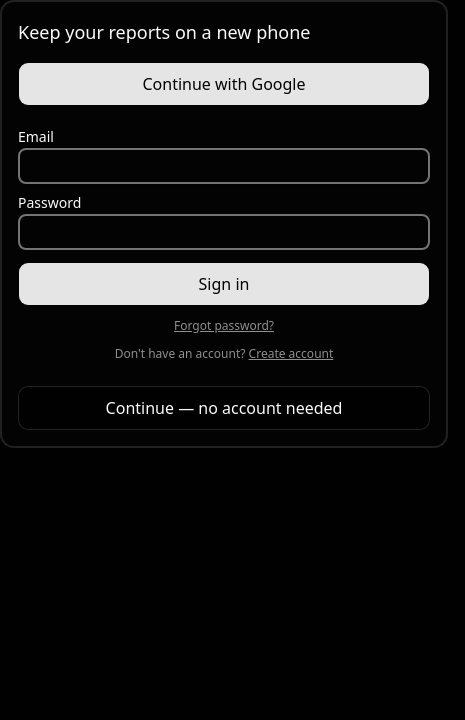
Scenario: SignInPanel › password sign-in › shows the account-created notice after a successful sign-up
Click the button "Create account" at (291, 354), box [249, 346, 333, 362]
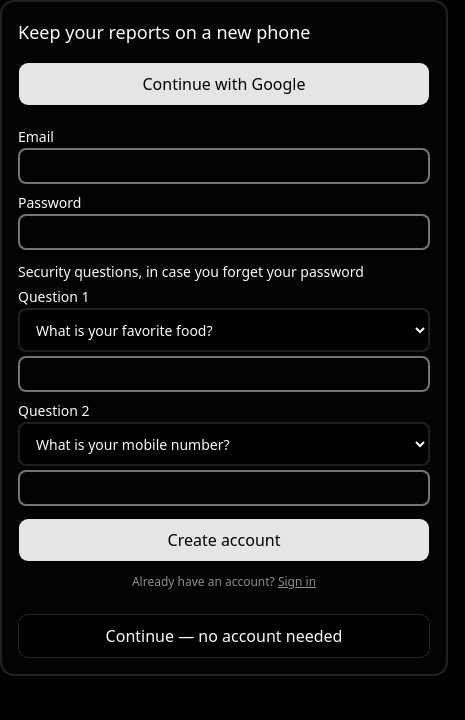
Type "new@example.com" into the field labelled "Email" at (224, 166), box [18, 148, 430, 184]
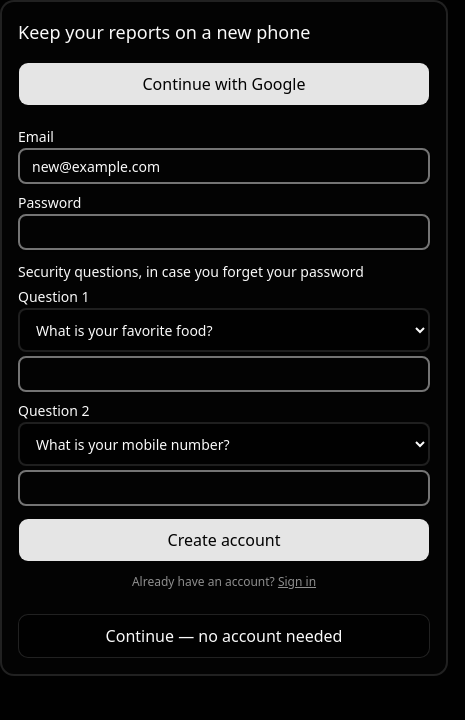
Type "hunter2222" into the password field labelled "Password" at (224, 232), box [18, 214, 430, 250]
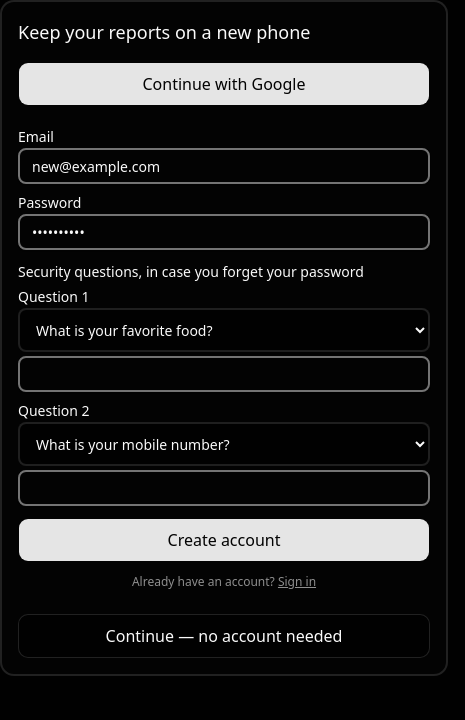
Type "adobo" into the field named "Answer 1" below "Question 1" at (224, 374), box [18, 356, 430, 392]
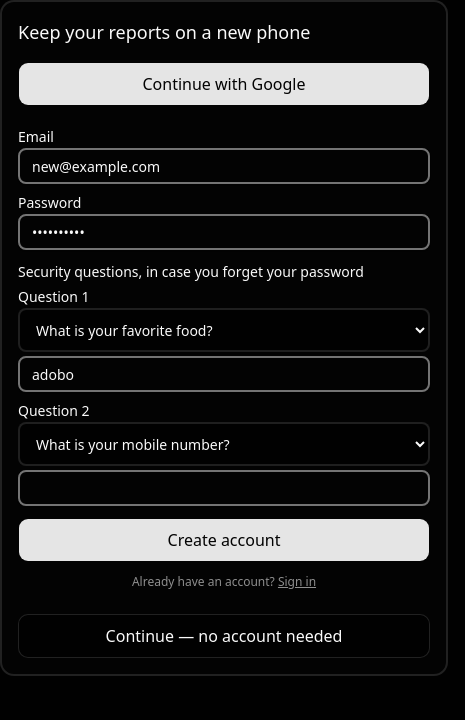
Type "0917 123 4567" into the field named "Answer 2" below "Question 2" at (224, 488), box [18, 470, 430, 506]
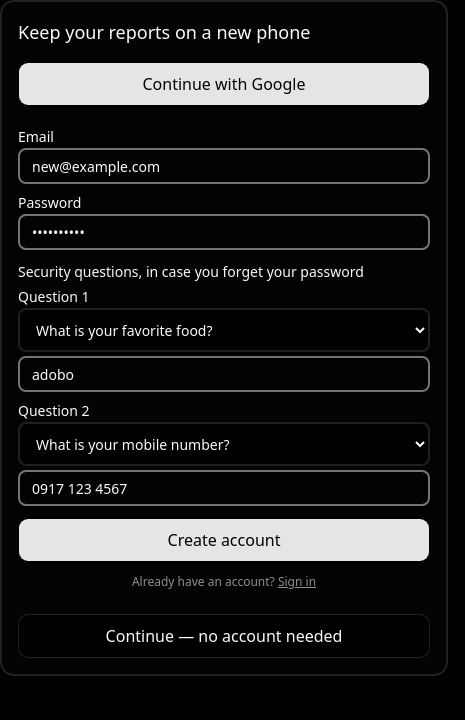
Click the button "Create account" at (224, 540), box [18, 518, 430, 562]
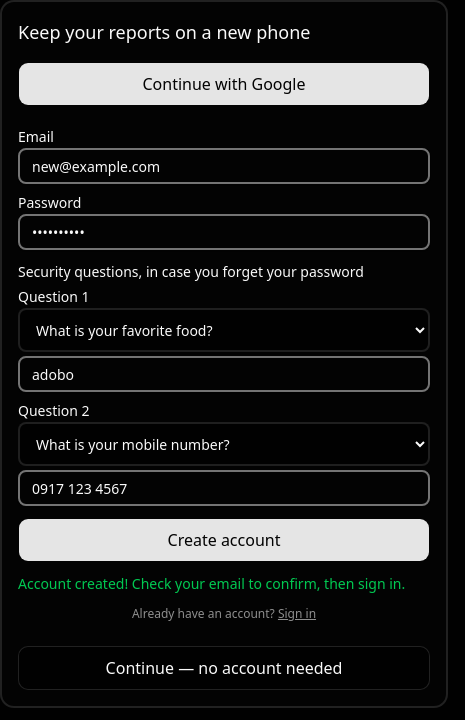
Expected: the text "Account created! Check your email to confirm, then sign in." is shown, [18, 574, 430, 594]
